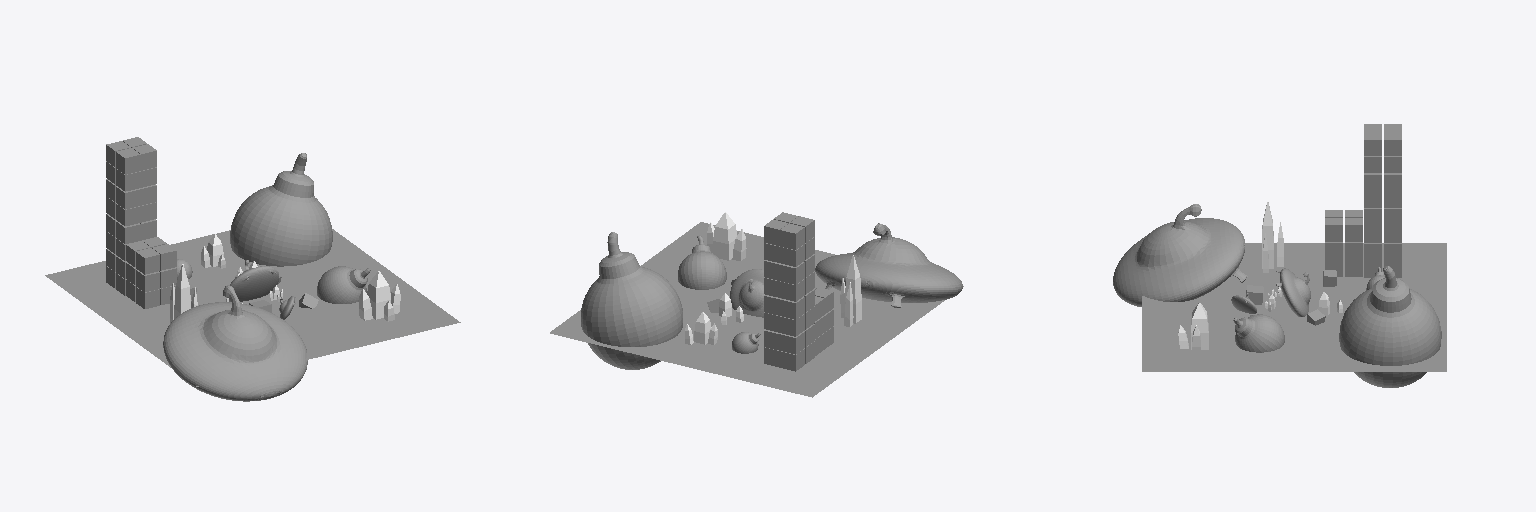
3 renders of one model, left to right at view 1: azimuth 30°, elevation 25°; view 2: azimuth 150°, elevation 25°; view 3: azimuth 270°, elevation 25°, orthographic.
Visible parts, largest first — view 1: Plane, Ufo.002_Cube.061, Sphere, Sphere.002, Cube.033_Cube.034, Ufo_Cube, Cube.035_Cube.036, Cube.034_Cube.035, Cube.040_Cube.041, Cube.064_Cube.065; view 2: Plane, Sphere, Ufo.002_Cube.061, Sphere.002, Cube.033_Cube.034, Ufo_Cube, Cube.035_Cube.036, Cube.034_Cube.035, Cube.041_Cube.042; view 3: Plane, Ufo.002_Cube.061, Sphere, Sphere.002, Ufo_Cube, Cube.033_Cube.034, Cube.035_Cube.036.
Boxes of the visible parts, x1=… form: Plane: x1=45, y1=229, x2=460, y2=386; Ufo.002_Cube.061: x1=163, y1=285, x2=307, y2=401; Sphere: x1=230, y1=153, x2=332, y2=266; Sphere.002: x1=317, y1=266, x2=370, y2=303; Cube.033_Cube.034: x1=359, y1=271, x2=400, y2=321; Ufo_Cube: x1=229, y1=260, x2=278, y2=301; Cube.035_Cube.036: x1=170, y1=264, x2=197, y2=323; Cube.034_Cube.035: x1=201, y1=234, x2=225, y2=268; Cube.040_Cube.041: x1=116, y1=148, x2=140, y2=174; Cube.064_Cube.065: x1=136, y1=248, x2=159, y2=274; Plane: x1=550, y1=222, x2=963, y2=397; Sphere: x1=581, y1=232, x2=682, y2=369; Ufo.002_Cube.061: x1=815, y1=223, x2=962, y2=307; Sphere.002: x1=678, y1=235, x2=726, y2=289; Cube.033_Cube.034: x1=707, y1=212, x2=746, y2=260; Ufo_Cube: x1=730, y1=269, x2=764, y2=317; Cube.035_Cube.036: x1=840, y1=255, x2=861, y2=326; Cube.034_Cube.035: x1=685, y1=312, x2=717, y2=344; Cube.041_Cube.042: x1=780, y1=223, x2=804, y2=249; Plane: x1=1142, y1=243, x2=1446, y2=371; Ufo.002_Cube.061: x1=1113, y1=204, x2=1247, y2=306; Sphere: x1=1339, y1=266, x2=1441, y2=387; Sphere.002: x1=1233, y1=314, x2=1284, y2=352; Ufo_Cube: x1=1276, y1=268, x2=1310, y2=316; Cube.033_Cube.034: x1=1178, y1=303, x2=1208, y2=353; Cube.035_Cube.036: x1=1262, y1=202, x2=1283, y2=272.
Size of the model in its own units: 34.49 by 21.45 by 36.68.
Materials: 7 (1 with a texture image).